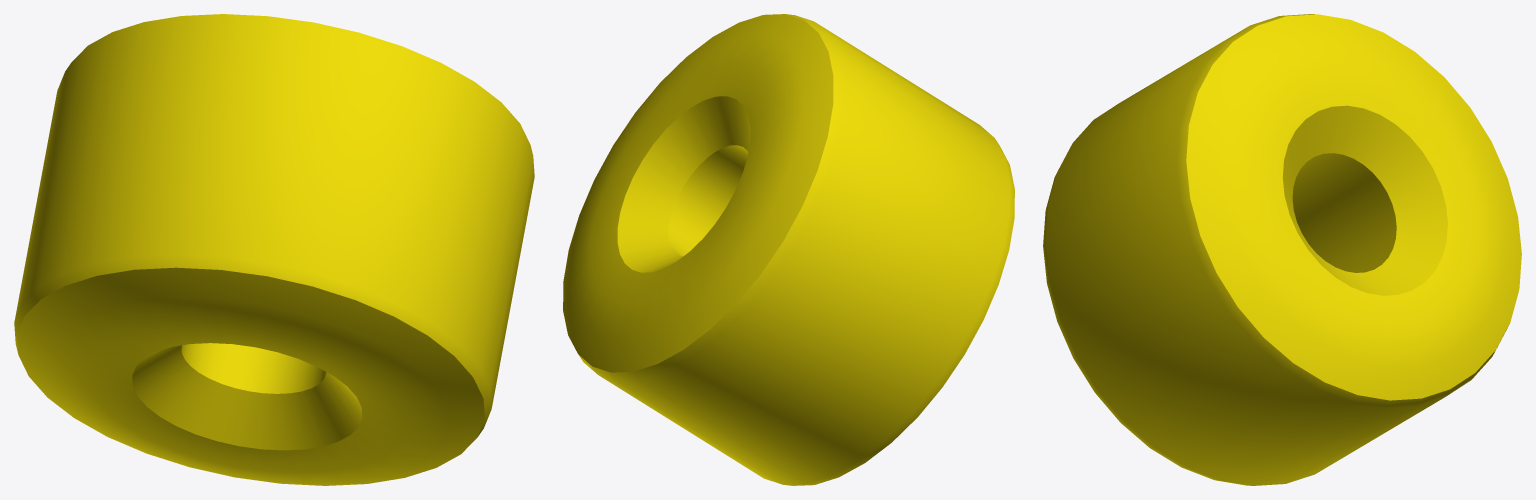
The model's file is roue 3.fbx.
3 renders of one model, left to right at view 1: azimuth 30°, elevation 25°; view 2: azimuth 150°, elevation 25°; view 3: azimuth 270°, elevation 25°, orthographic. The views are drawn at different scales.
Visible parts, largest first — view 1: Roue3 Anim; view 2: Roue3 Anim; view 3: Roue3 Anim.
Boxes of the visible parts, x1,y1,x2,y2 form: Roue3 Anim: (14, 14, 534, 485); Roue3 Anim: (563, 14, 1014, 485); Roue3 Anim: (1043, 14, 1521, 485).
Size of the model in its own units: 36.97 by 36.73 by 36.94.
